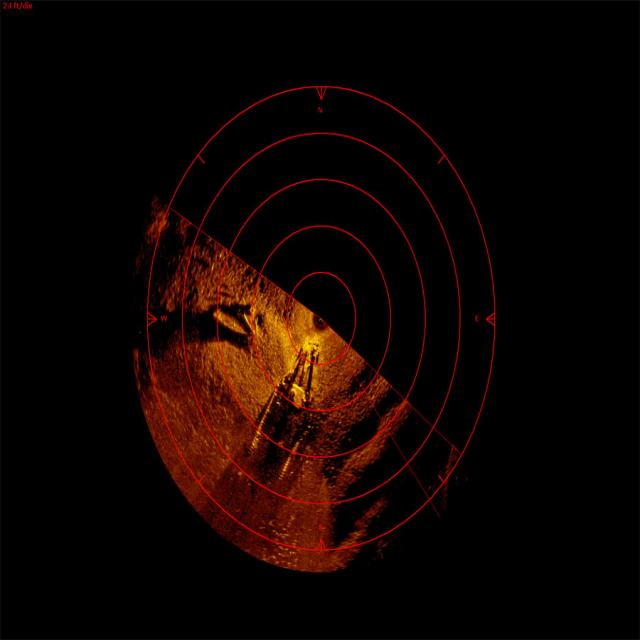ship: (245, 330, 320, 481)
